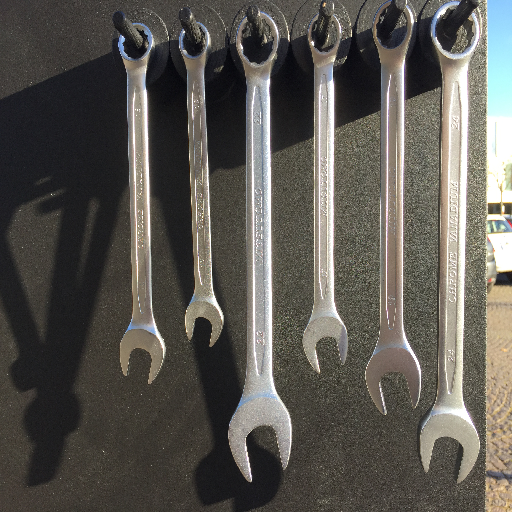bottom: (224, 394, 293, 484), (416, 407, 482, 486), (363, 341, 420, 417), (116, 323, 167, 385), (300, 313, 349, 374), (184, 292, 226, 350)
top: (427, 1, 482, 64), (233, 12, 282, 70), (368, 1, 415, 55), (305, 11, 345, 62), (113, 20, 156, 65), (177, 21, 213, 65)
